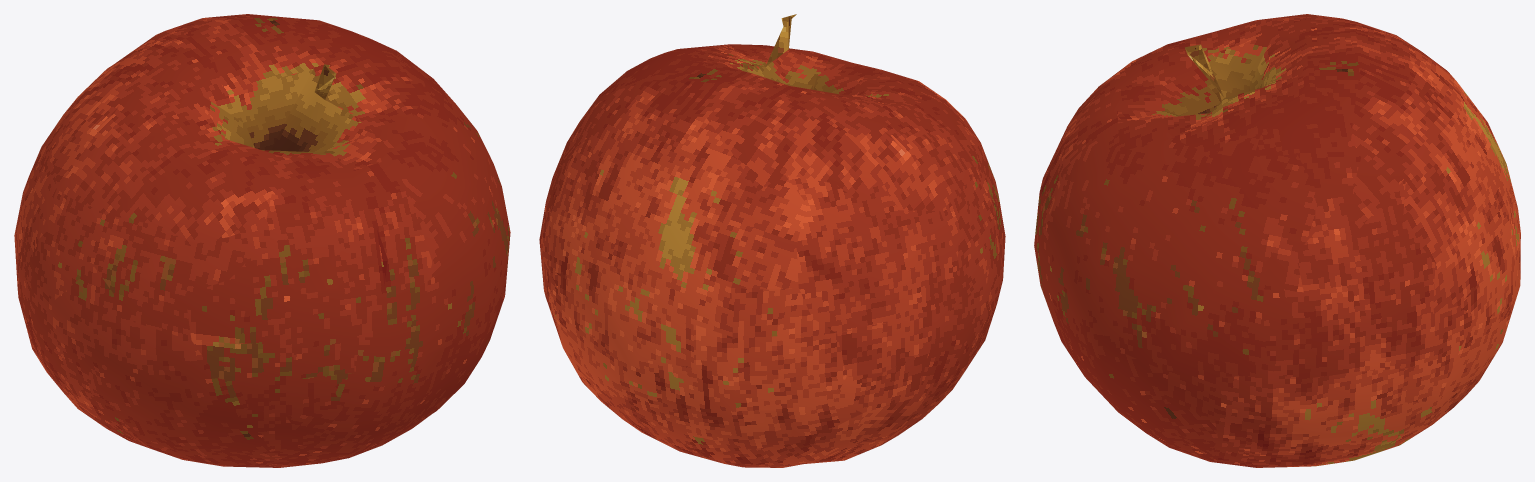
File: food_apple_01.glb
3 renders of one model, left to right at view 1: azimuth 30°, elevation 25°; view 2: azimuth 150°, elevation 25°; view 3: azimuth 270°, elevation 25°, orthographic. The views are drawn at different scales.
Visible parts, largest first — view 1: mesh; view 2: mesh; view 3: mesh.
Part boxes in pixels (box(x1,y1,x2,y2)): mesh: box(14, 14, 510, 467); mesh: box(539, 14, 1005, 467); mesh: box(1034, 14, 1520, 467).
Bounding box in the file's own units: 14.68 × 12.81 × 14.47.
Materials: 1 (1 with a texture image).
